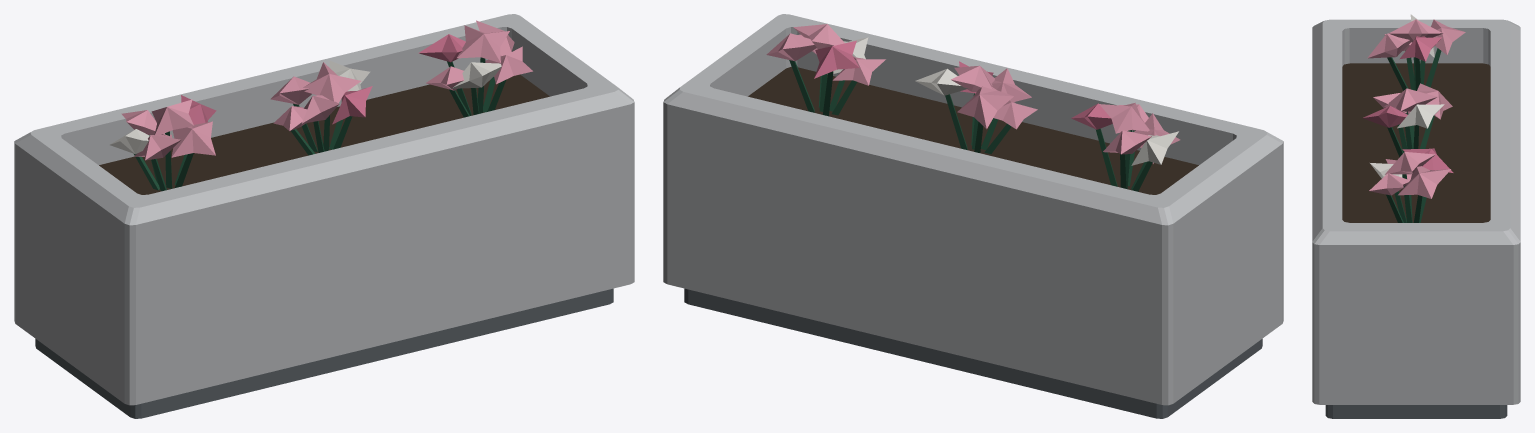
The model's file is flower-planter-550bfb.glb.
3 renders of one model, left to right at view 1: azimuth 30°, elevation 25°; view 2: azimuth 150°, elevation 25°; view 3: azimuth 270°, elevation 25°, orthographic. The views are drawn at different scales.
Parts seen in each view (by area): view 1: planter-box, blossom-cluster; view 2: planter-box, blossom-cluster; view 3: planter-box, blossom-cluster.
Part boxes in pixels (x1,y1,x2,y2): planter-box: [14, 14, 634, 418]; blossom-cluster: [110, 20, 532, 191]; planter-box: [663, 14, 1283, 418]; blossom-cluster: [766, 24, 1180, 191]; planter-box: [1312, 19, 1520, 418]; blossom-cluster: [1362, 14, 1465, 222].
Bounding box in the file's own units: 1 × 0.484 × 0.4.
